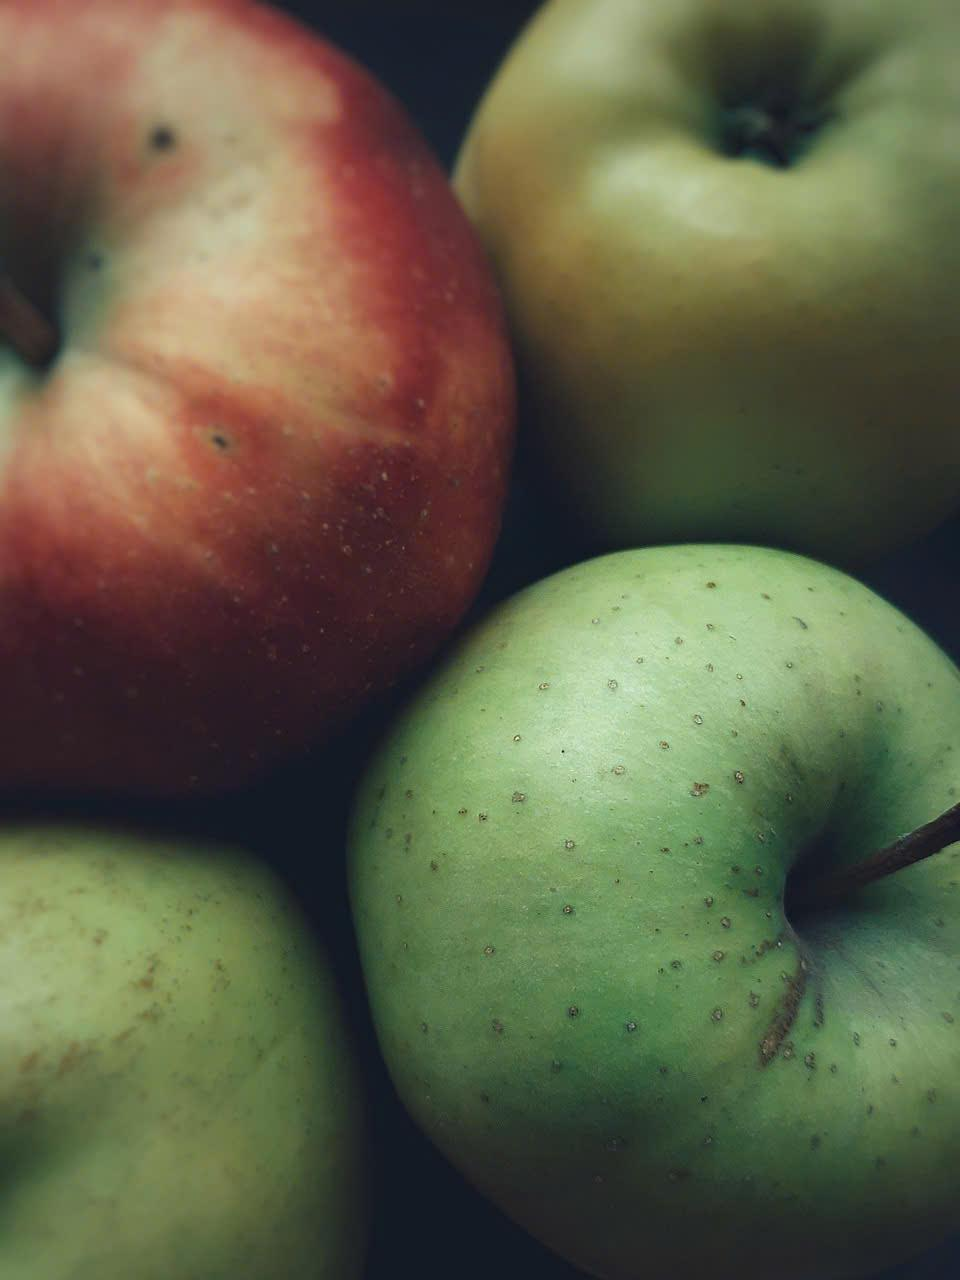apple: (368, 548, 960, 1280), (0, 6, 521, 801), (460, 8, 960, 560), (0, 803, 398, 1275)
